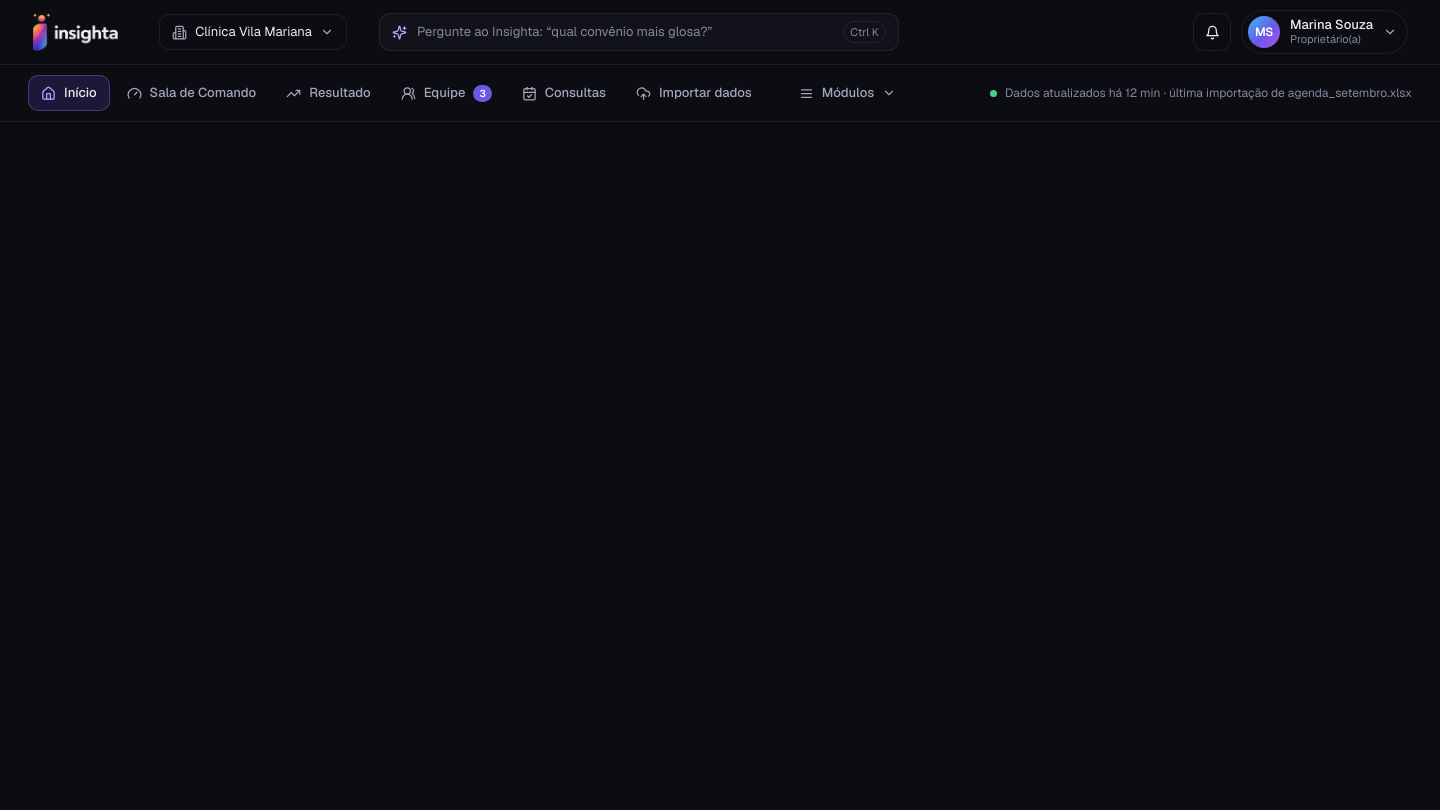
TopBar › mostra alertas reais dos módulos, os avisos novos da Equipe e a última importação
This screenshot has width=1440, height=810.
Expected: the text "Dados atualizados há 12 min · última importação de agenda_setembro.xlsx" is shown, [974,85,1412,101]
Expected: the text "3" is shown, [473,84,492,102]
Step 1. Click the button "Módulos" → {"x": 847, "y": 93}, box [786,75,909,111]
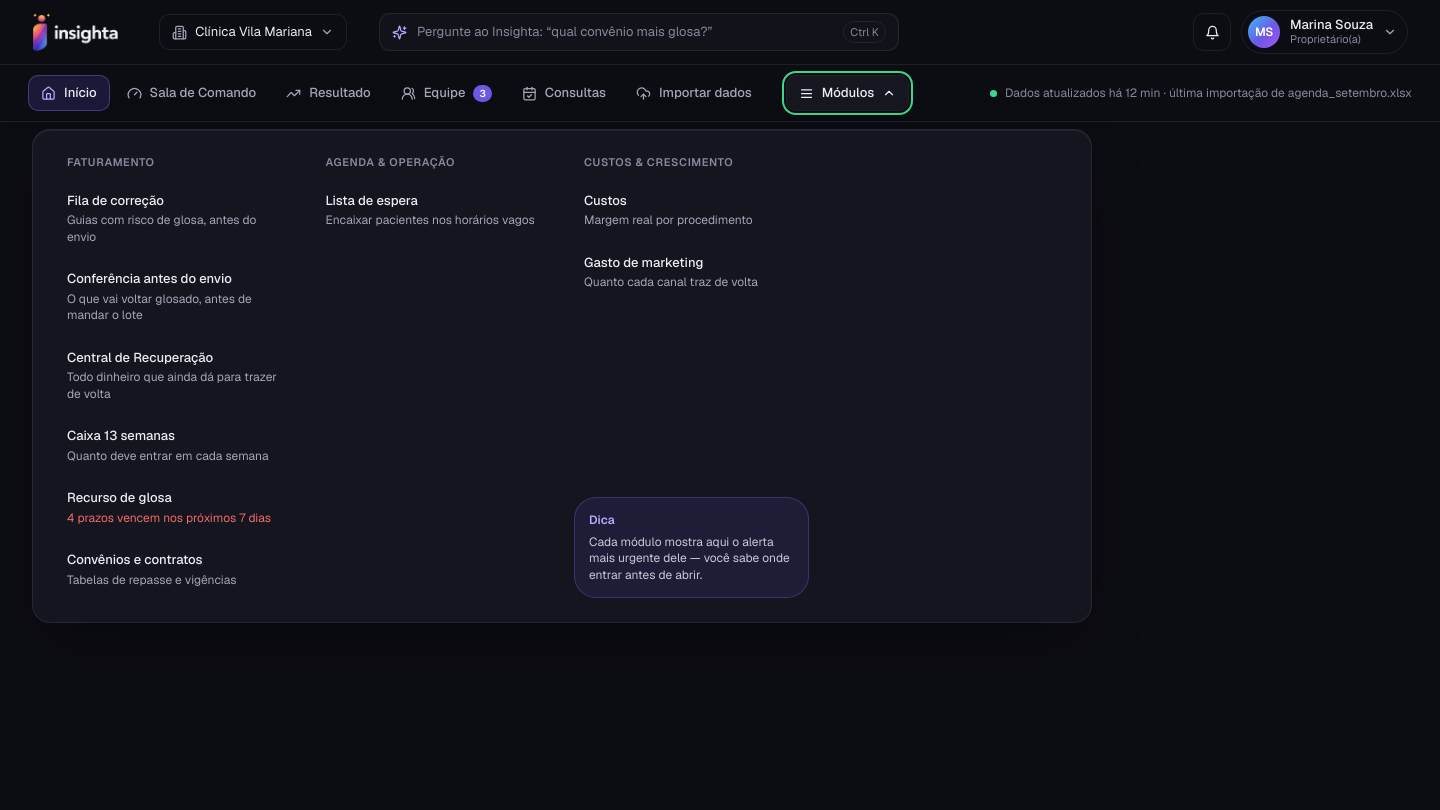
Expected: the text "4 prazos vencem nos próximos 7 dias" is shown, [67,510,282,526]
Expected: the text "Dica" is shown, [589,512,615,528]
